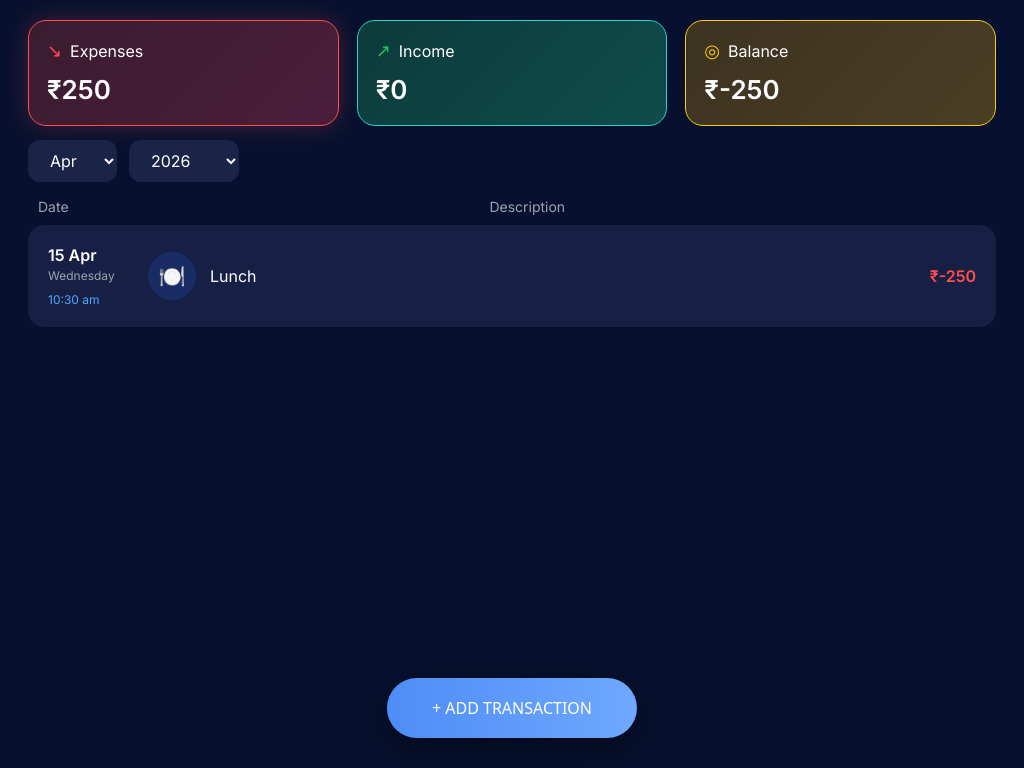
Records transaction flow › opens the edit flow and updates an existing transaction
Expected: the text "Lunch" is shown, [210,264,257,288]
Step 1. Click the text "Lunch" → (512, 276), box [28,225,996,327]
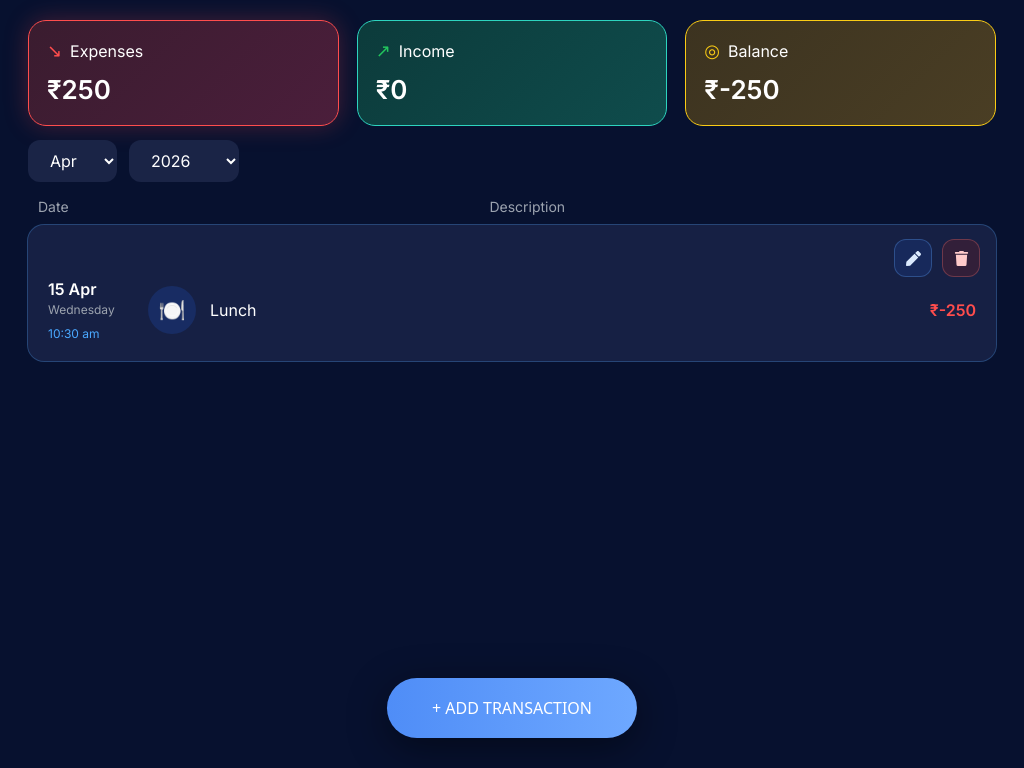
Expected: the button titled "Edit" is shown
Expected: the button titled "Delete" is shown, [942,239,980,277]
Step 2. Click the button titled "Edit" → (913, 258), box [894,239,932,277]
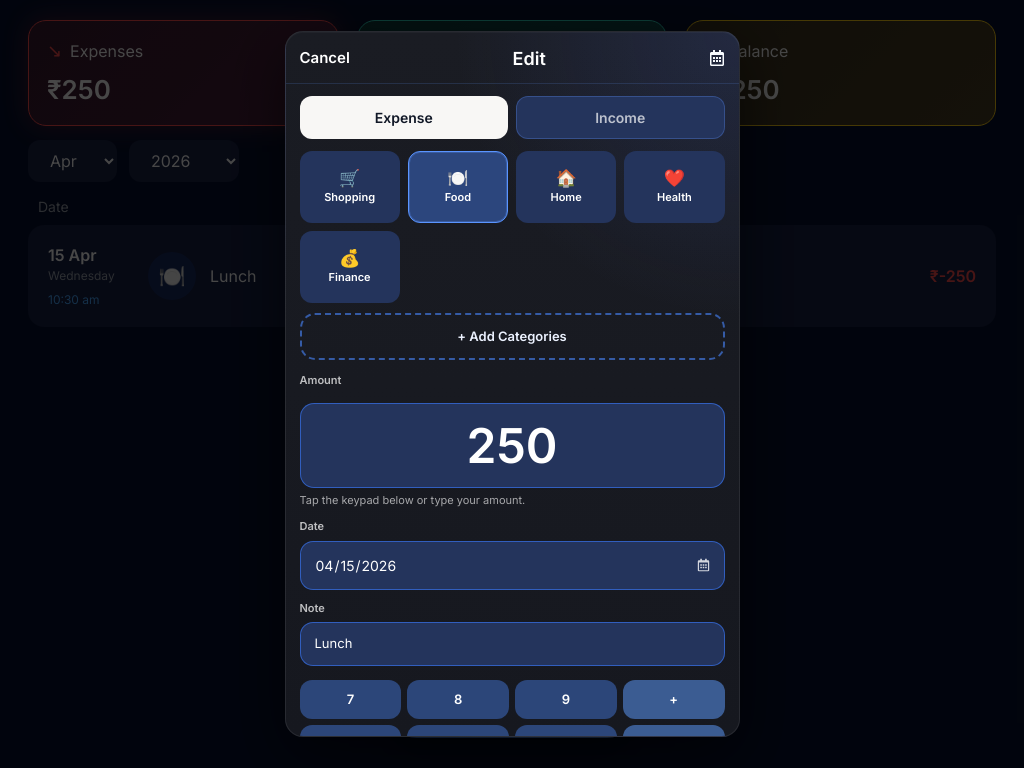
Expected: the heading "Edit" is shown, [513,45,546,72]
Step 3. Replace the text in the field with placeholder "0" with "300" → (512, 445), box [300,403,724,488]
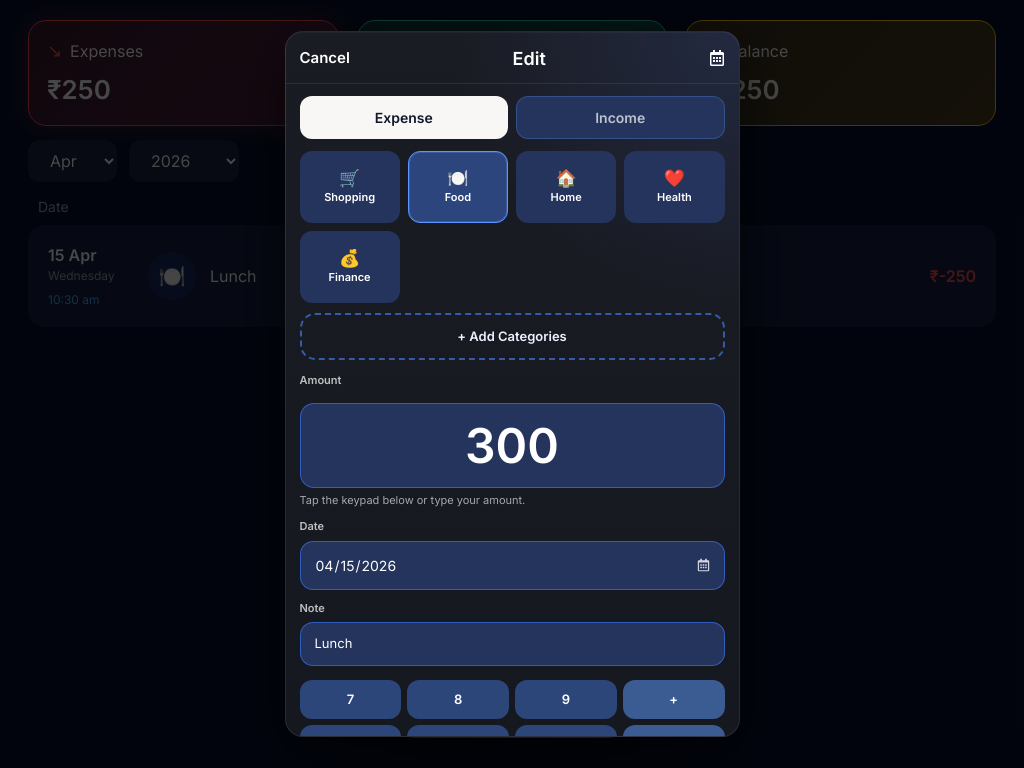
Step 4. Replace the text in the field with placeholder "Enter a note..." with "Dinner" → (512, 644), box [300,622,724,666]
(page scrolled)
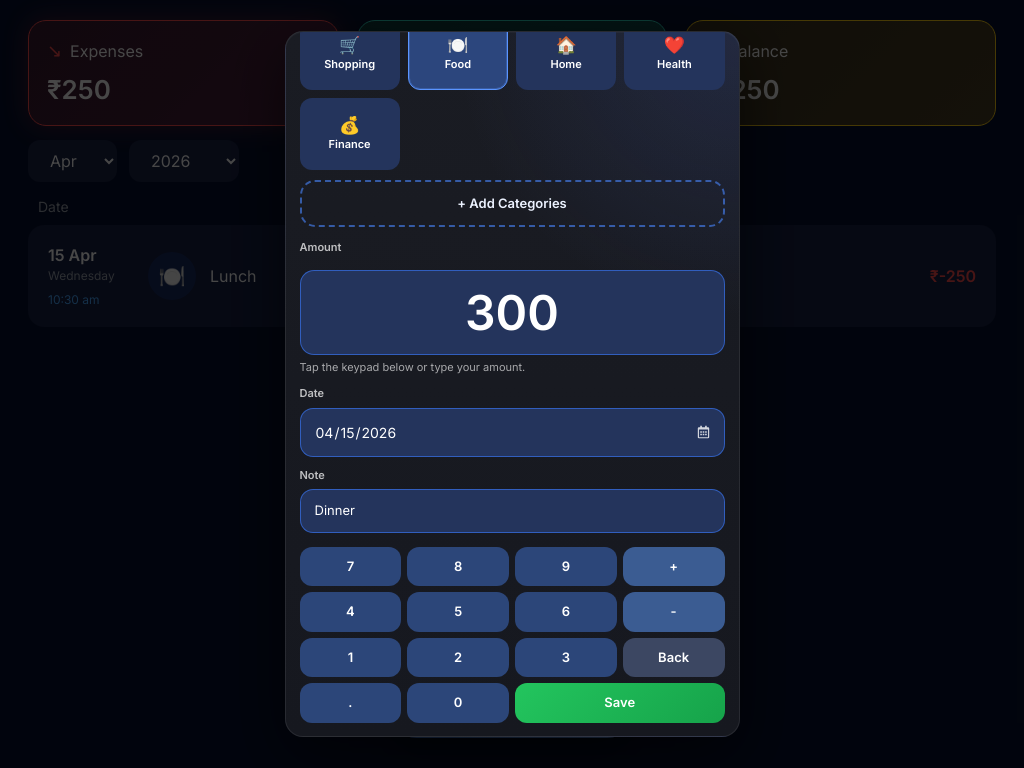
Step 5. Click the button "Save" → (620, 703), box [515,683,724,723]
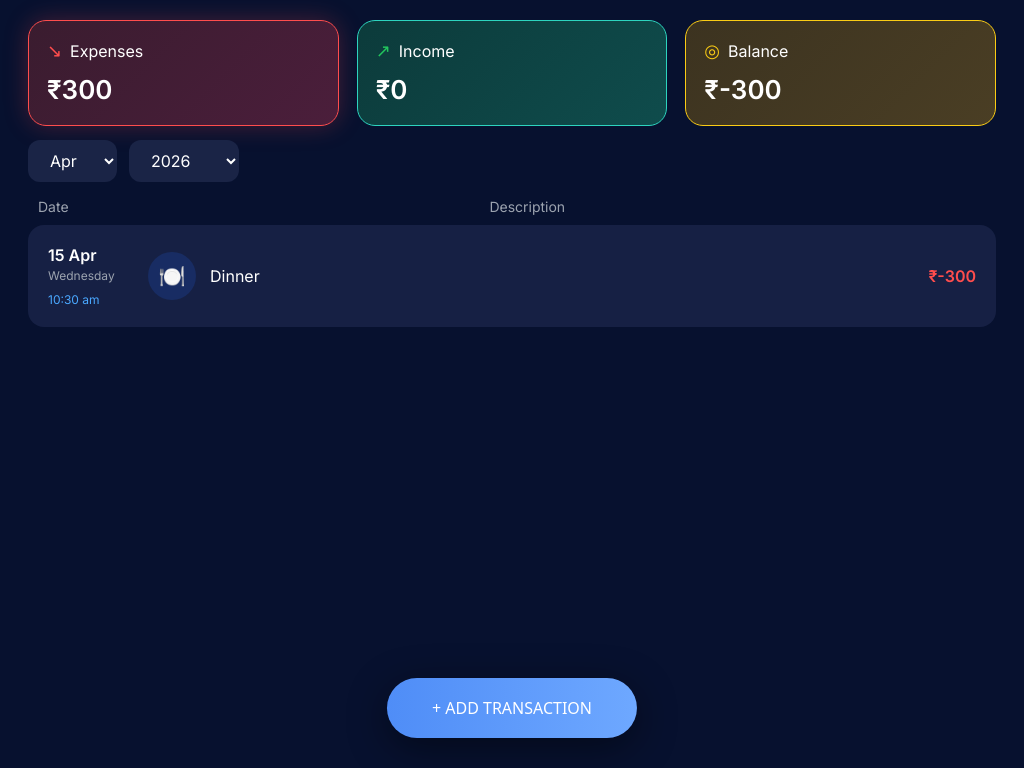
Expected: the text "Dinner" is shown, [210,264,260,288]
Expected: the text "Lunch" is gone
